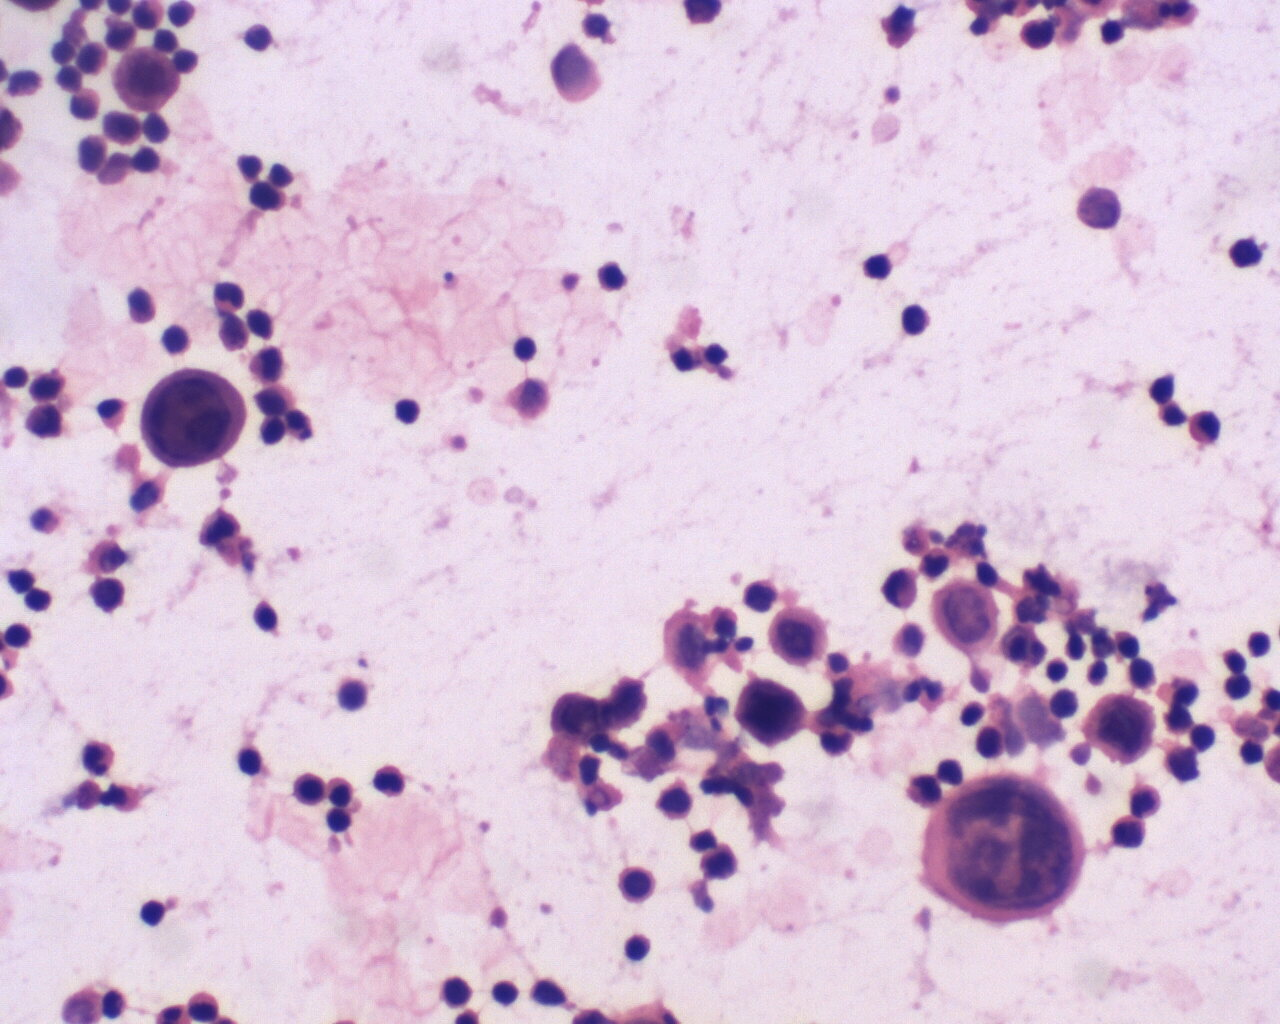ab: (920, 771, 1083, 933), (138, 365, 251, 469), (930, 574, 1003, 656), (1086, 686, 1154, 762), (735, 675, 805, 747), (767, 603, 833, 669)
lymph: (231, 741, 276, 788), (234, 17, 278, 56), (134, 897, 174, 936), (895, 299, 936, 338), (506, 325, 542, 367), (861, 249, 899, 287), (618, 929, 654, 965), (333, 679, 371, 714), (391, 393, 426, 427)
meso: (113, 47, 181, 110)
neutro: (1188, 404, 1224, 450), (83, 736, 119, 777), (370, 762, 406, 799), (211, 278, 245, 315)
